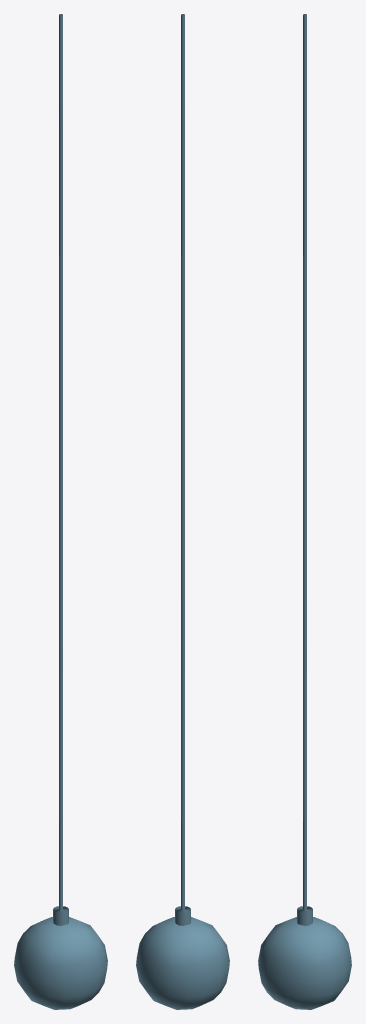
Rendered from ball.fbx.
3 views of the same model, side by side, from view 1: azimuth 30°, elevation 25°; view 2: azimuth 210°, elevation 25°; view 3: azimuth 330°, elevation 25° (orthographic).
Visible parts, largest first — view 1: Cylinder.002; view 2: Cylinder.002; view 3: Cylinder.002.
Boxes of the visible parts, x1,y1,x2,y2 form: Cylinder.002: (14, 14, 107, 1009); Cylinder.002: (136, 14, 229, 1009); Cylinder.002: (258, 14, 351, 1009).
Bounding box in the file's own units: 168 × 1966 × 168.
